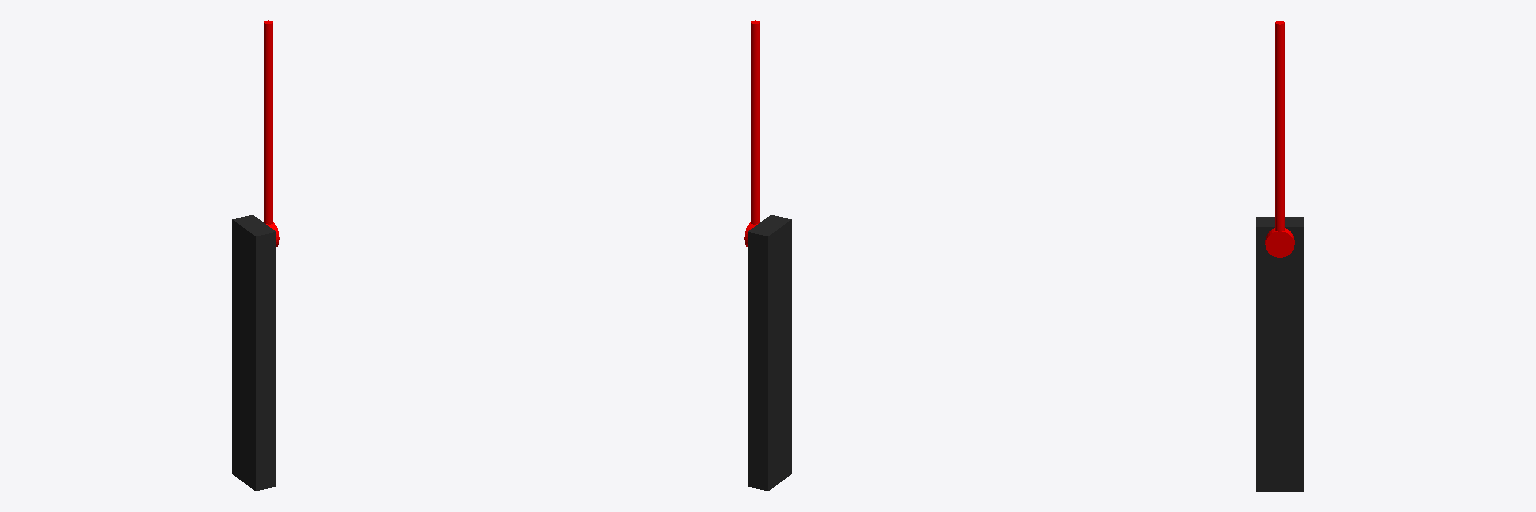
The robot description file, URDF, robot "pendulum_xacro":
<?xml version="1.0" encoding="utf-8"?>
<!-- =================================================================================== -->
<!-- |    This document was autogenerated by xacro from Pendulum.urdf.xacro            | -->
<!-- |    EDITING THIS FILE BY HAND IS NOT RECOMMENDED                                 | -->
<!-- =================================================================================== -->
<robot name="pendulum_xacro">
  <!-- ====== -->
  <!-- COLORS -->
  <!-- ====== -->
  <gazebo reference="pendulum">
    <visual>
      <material>
        <diffuse>1 0 0 1</diffuse>
      </material>
    </visual>
  </gazebo>
  <gazebo reference="pendulum_support">
    <visual>
      <material>
        <diffuse>0.2 0.2 0.2 1</diffuse>
      </material>
    </visual>
  </gazebo>
  <!-- ===== -->
  <!-- LINKS -->
  <!-- ===== -->
  <link name="support">
    <inertial>
      <origin rpy="0 0 0" xyz="0 0 0.3"/>
      <mass value="1000"/>
      <inertia ixx="30.8333333333" ixy="0" ixz="0" iyy="30.2083333333" iyz="0" izz="1.04166666667"/>
    </inertial>
    <visual>
      <geometry>
        <box size="0.05 0.1 0.6"/>
      </geometry>
      <origin rpy="0 0 0" xyz="0 0 0.3"/>
      <material name="black">
        <color rgba="0.2 0.2 0.2 1"/>
      </material>
    </visual>
    <collision>
      <geometry>
        <box size="0.05 0.1 0.6"/>
      </geometry>
      <origin rpy="0 0 0" xyz="0 0 0.3"/>
    </collision>
  </link>
  <link name="pendulum">
    <inertial>
      <origin rpy="0 0 0" xyz="0 0 0.25"/>
      <mass value="1"/>
      <inertia ixx="0.0208583333333" ixy="0" ixz="0" iyy="0.0208583333333" iyz="0" izz="5e-05"/>
    </inertial>
    <visual>
      <geometry>
        <cylinder length="0.5" radius="0.01"/>
      </geometry>
      <origin rpy="0 0 0" xyz="0 0 0.25"/>
      <material name="red">
        <color rgba="1 0 0 1"/>
      </material>
    </visual>
    <visual>
      <geometry>
        <cylinder length="0.02" radius="0.03"/>
      </geometry>
      <origin rpy="0 1.57079632679 0" xyz="0 0 0"/>
      <material name="red">
        <color rgba="1 0 0 1"/>
      </material>
    </visual>
    <collision>
      <geometry>
        <cylinder length="0.5" radius="0.01"/>
      </geometry>
      <origin rpy="0 0 0" xyz="0 0 0.25"/>
    </collision>
  </link>
  <!-- ====== -->
  <!-- JOINTS -->
  <!-- ====== -->
  <joint name="pivot" type="continuous">
    <parent link="support"/>
    <child link="pendulum"/>
    <axis xyz="1 0 0"/>
    <origin rpy="0.0 0 0" xyz="0.035 0 0.57"/>
    <limit effort="500" lower="-6.28318530718" upper="6.28318530718" velocity="10"/>
    <dynamics damping="0" friction="0"/>
  </joint>
</robot>

--- What the picture shows (computed from the rendered views, not written in the file) ---
The picture shows the robot from 3 angles, left to right: view 1: azimuth 30°, elevation 25°; view 2: azimuth 150°, elevation 25°; view 3: azimuth 270°, elevation 25°; orthographic projection.
Model pendulum_xacro with 2 links and 1 joints (1 continuous), rooted at support, posed every joint at zero.
Links seen in each view (by area): view 1: support, pendulum; view 2: support, pendulum; view 3: support, pendulum.
Boxes of the visible links, x1,y1,x2,y2 form: support: (232,215,275,490); pendulum: (264,20,279,246); support: (748,215,791,490); pendulum: (744,20,759,246); support: (1256,217,1303,491); pendulum: (1265,21,1294,257).
Size in the robot's own frame: 0.07 by 0.1 by 1.07 metres.
Geometry: primitives only (box / cylinder / sphere), no mesh files.